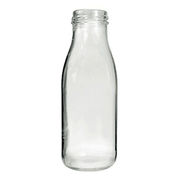Rec_Glass: (54, 7, 125, 174)
